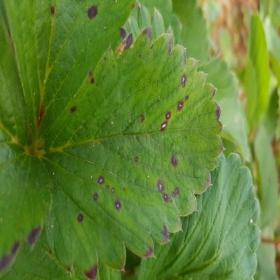Leaf Spot: (36, 26, 226, 279), (3, 0, 136, 146)
